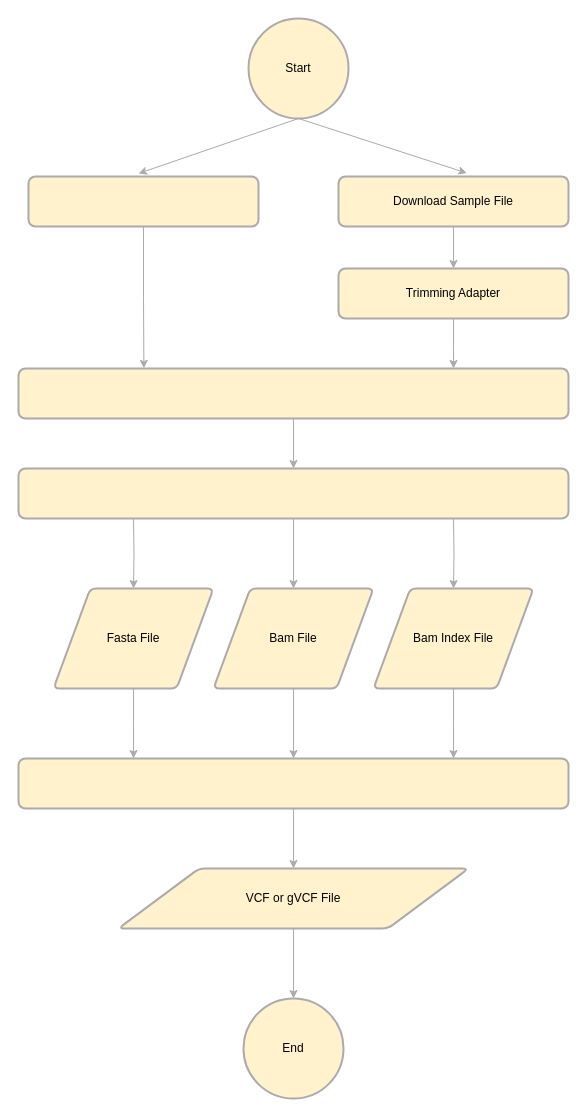
The diagram is 586 pixels wide and 1116 high, and some of its shapes have lost their labels. Here are the shapes that lost their labels. From the top down, the box of each, then its label:
(27, 175, 259, 227): Download Reference and Create Index
(17, 367, 569, 419): Allignment to Reference
(17, 467, 569, 519): Convert Sam to Bam and index it
(17, 757, 569, 809): Deep Variant
